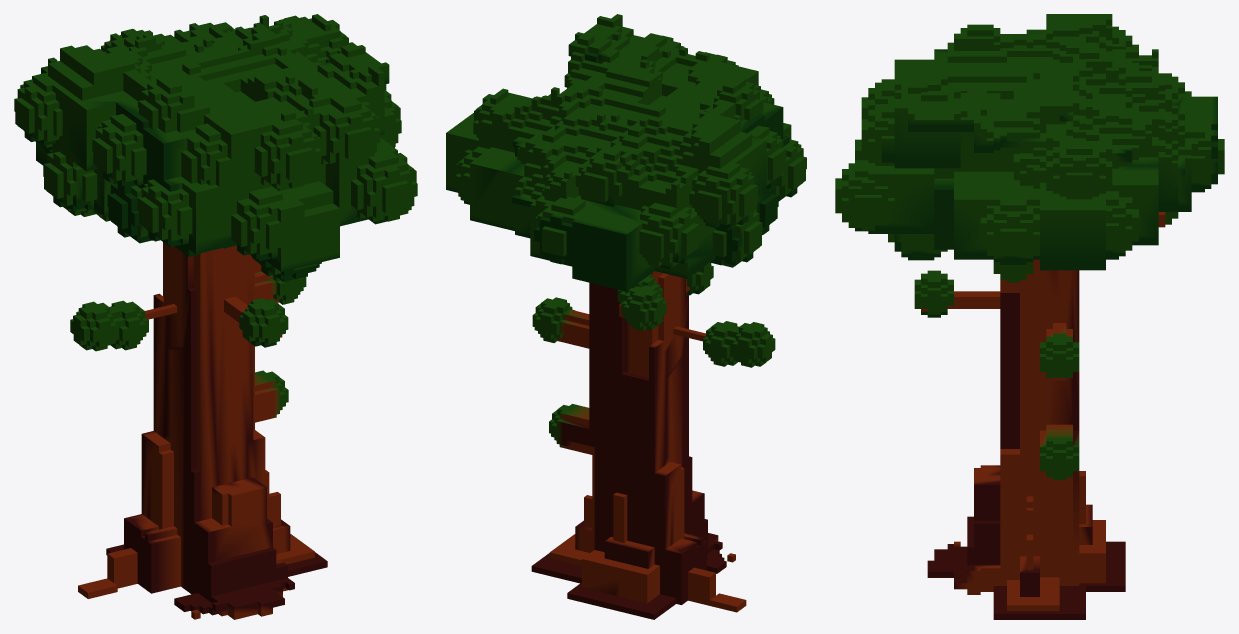
Rendered from Tree_4.fbx.
The picture shows the model from 3 angles, left to right: view 1: azimuth 30°, elevation 25°; view 2: azimuth 150°, elevation 25°; view 3: azimuth 270°, elevation 25°; orthographic projection. The views are drawn at different scales.
Visible parts, largest first — view 1: Tree_4; view 2: Tree_4; view 3: Tree_4.
Boxes of the visible parts, x1=… form: Tree_4: x1=14, y1=14, x2=417, y2=619; Tree_4: x1=446, y1=14, x2=806, y2=619; Tree_4: x1=835, y1=14, x2=1224, y2=619.
Size of the model in its own units: 291 by 446 by 306.
